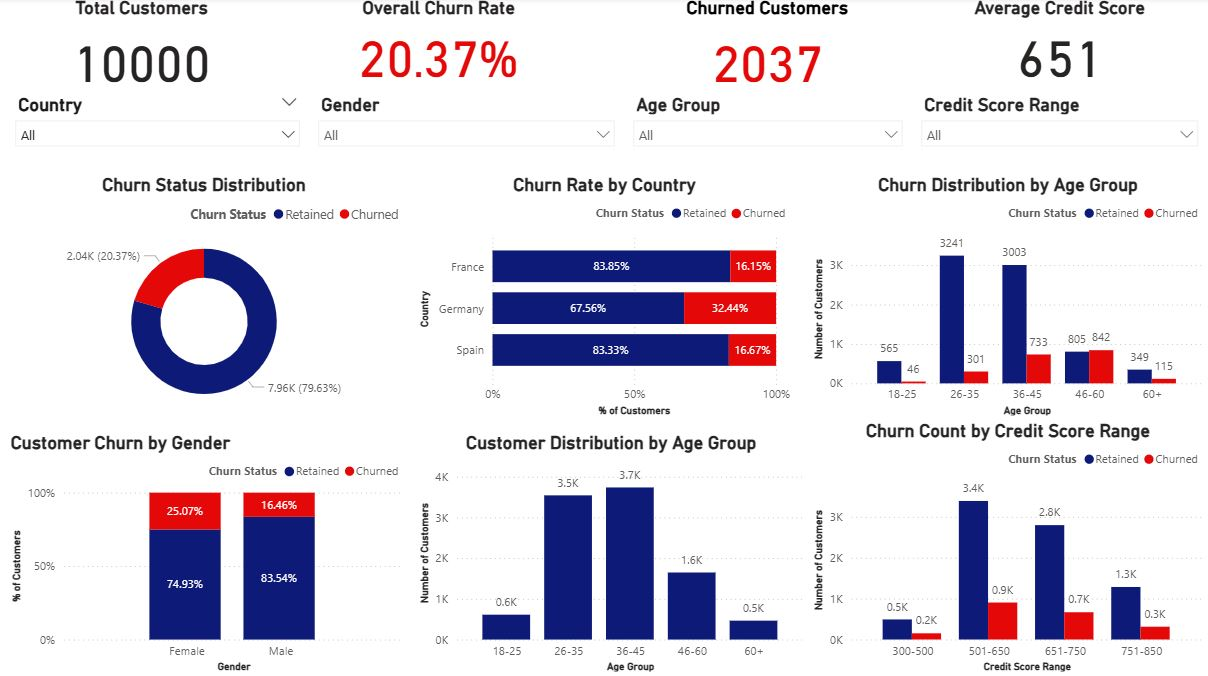

This screenshot's page, from the dashboard's own definition file:
{"tool":"powerbi","page":{"name":"Page 1","canvas":[1280,720],"ordinal":0},"visuals":[{"type":"hundredPercentStackedBarChart","title":"Churn Rate by Country","fields":{"Category":["Sheet1.country"],"Series":["Sheet1.Churn Status"],"Y":["CountNonNull(Sheet1.customer_id)"]},"box":[439,187.7,404,260.9],"z":0},{"type":"card","title":"Total Customers","fields":{"Values":["CountNonNull(Sheet1.customer_id)"]},"box":[0,0,300.6,106.6],"z":1000},{"type":"card","title":"Churned Customers","fields":{"Values":["Sheet1.Churned Customer"]},"box":[639.4,0,348.3,106.6],"z":2000},{"type":"card","title":"Overall Churn Rate","fields":{"Values":["Sheet1.Overall Churn Rate"]},"box":[268.8,0,392.9,95.4],"z":3000},{"type":"donutChart","title":"Churn Status Distribution","fields":{"Y":["CountNonNull(Sheet1.customer_id)"],"Category":["Sheet1.Churn Status"]},"box":[0,187.7,432.6,260.9],"z":4000},{"type":"hundredPercentStackedColumnChart","title":"Customer Churn by Gender","fields":{"Category":["Sheet1.gender"],"Y":["CountNonNull(Sheet1.Churn Status)"],"Series":["Sheet1.Churn Status"]},"box":[6.4,461.3,426.3,259.3],"z":5000},{"type":"clusteredColumnChart","title":" Churn Distribution by Age Group","fields":{"Category":["Sheet1.age_group"],"Series":["Sheet1.Churn Status"],"Y":["CountNonNull(Sheet1.customer_id)"]},"box":[857.3,187.7,423.1,260.9],"z":6000},{"type":"slicer","fields":{"Values":["Sheet1.gender"]},"box":[327.7,97,334,68.4],"z":7000},{"type":"slicer","fields":{"Values":["Sheet1.age_group"]},"box":[661.7,97,305.4,68.4],"z":8000},{"type":"slicer","fields":{"Values":["Sheet1.Credit Score Range"]},"box":[967.1,97,313.4,68.4],"z":9000},{"type":"slicer","fields":{"Values":["Sheet1.country"]},"box":[6.4,97,321.3,68.4],"z":10000},{"type":"card","title":"Average Credit Score","fields":{"Values":["Avg(Sheet1.credit_score)"]},"box":[967.1,0,313.4,95.4],"z":11000},{"type":"clusteredColumnChart","title":"Customer Distribution by Age Group","fields":{"Category":["Sheet1.age_group"],"Y":["CountNonNull(Sheet1.customer_id)"]},"box":[439,461.3,418.3,259.3],"z":12000},{"type":"clusteredColumnChart","title":"Churn Count by Credit Score Range","fields":{"Category":["Sheet1.Credit Score Range"],"Y":["CountNonNull(Sheet1.customer_id)"],"Series":["Sheet1.Churn Status"]},"box":[857.3,448.6,423.1,272],"z":13000}]}

Visuals, with their boxes in screenshot pixels (x1, y1, x2, y2), scaled from the page's 1280x720 canvas onto the 1208x676 screenshot:
"Churn Rate by Country" hundredPercentStackedBarChart: left=414, top=176, right=796, bottom=421
"Total Customers" card: left=0, top=0, right=284, bottom=100
"Churned Customers" card: left=603, top=0, right=932, bottom=100
"Overall Churn Rate" card: left=254, top=0, right=624, bottom=90
"Churn Status Distribution" donutChart: left=0, top=176, right=408, bottom=421
"Customer Churn by Gender" hundredPercentStackedColumnChart: left=6, top=433, right=408, bottom=675
" Churn Distribution by Age Group" clusteredColumnChart: left=809, top=176, right=1207, bottom=421
slicer - Sheet1.gender: left=309, top=91, right=624, bottom=155
slicer - Sheet1.age_group: left=624, top=91, right=913, bottom=155
slicer - Sheet1.Credit Score Range: left=913, top=91, right=1207, bottom=155
slicer - Sheet1.country: left=6, top=91, right=309, bottom=155
"Average Credit Score" card: left=913, top=0, right=1207, bottom=90
"Customer Distribution by Age Group" clusteredColumnChart: left=414, top=433, right=809, bottom=675
"Churn Count by Credit Score Range" clusteredColumnChart: left=809, top=421, right=1207, bottom=675
